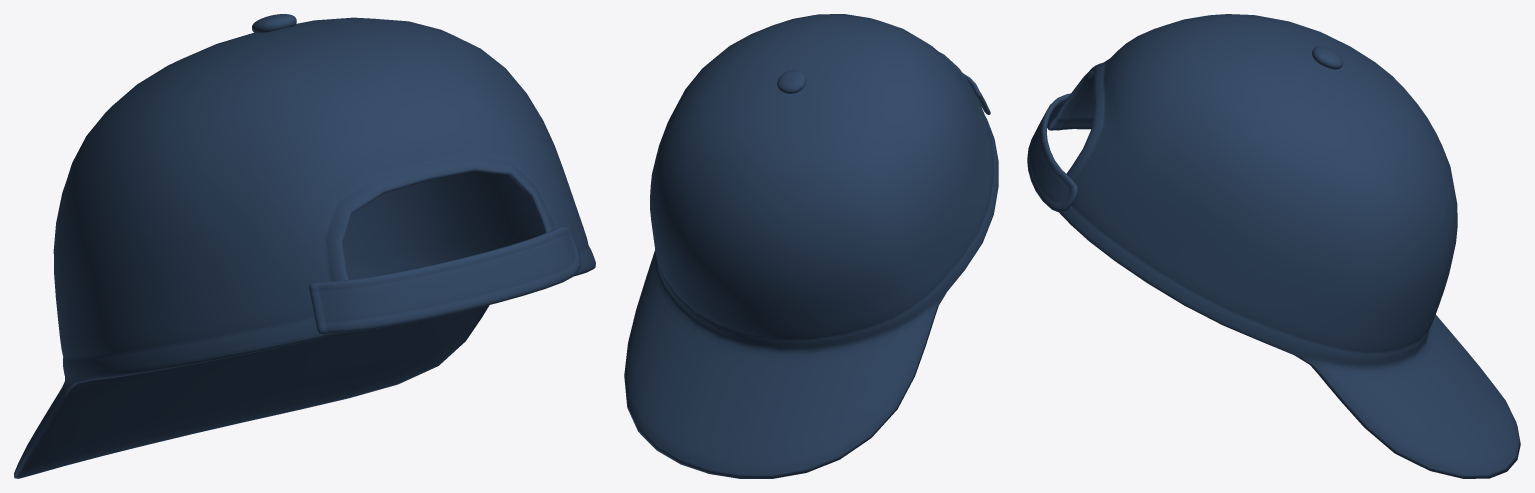
The model's file is Topi.fbx.
3 views of the same model, side by side, from view 1: azimuth 30°, elevation 25°; view 2: azimuth 150°, elevation 25°; view 3: azimuth 270°, elevation 25° (orthographic). The views are drawn at different scales.
Parts seen in each view (by area): view 1: TOPI.001; view 2: TOPI.001; view 3: TOPI.001.
Boxes of the visible parts, left/top/right/bottom form: TOPI.001: left=14, top=14, right=595, bottom=478; TOPI.001: left=624, top=14, right=998, bottom=478; TOPI.001: left=1027, top=14, right=1520, bottom=478.
Size of the model in its own units: 51.06 by 58 by 63.78.
